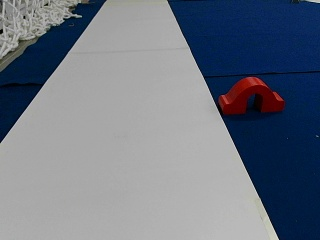bridge: (220, 77, 283, 112)
